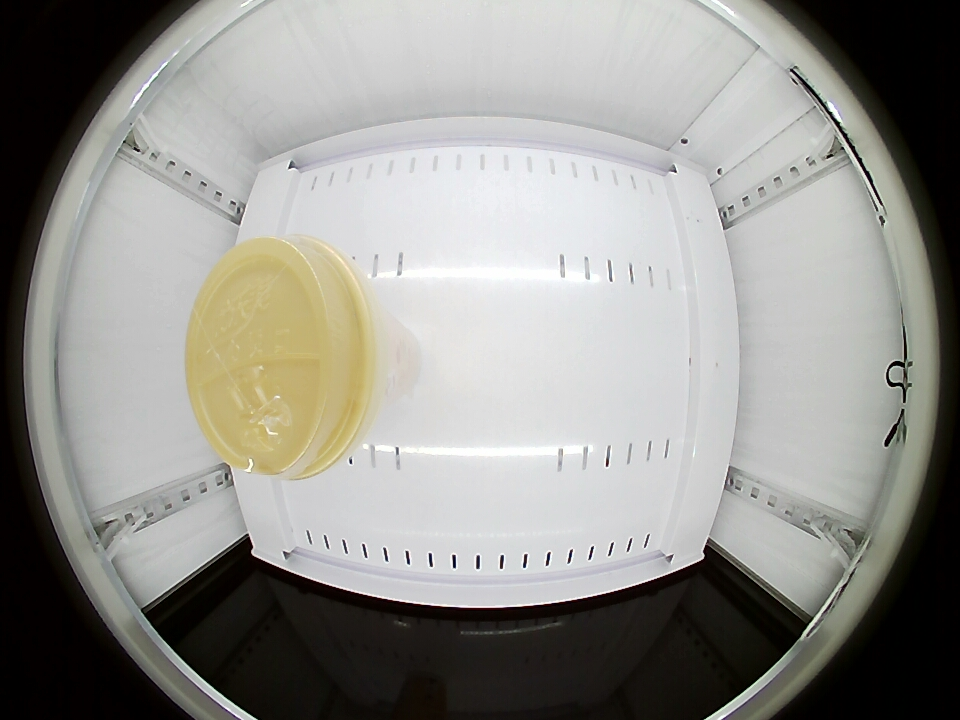youlemei: (186, 234, 386, 479)
